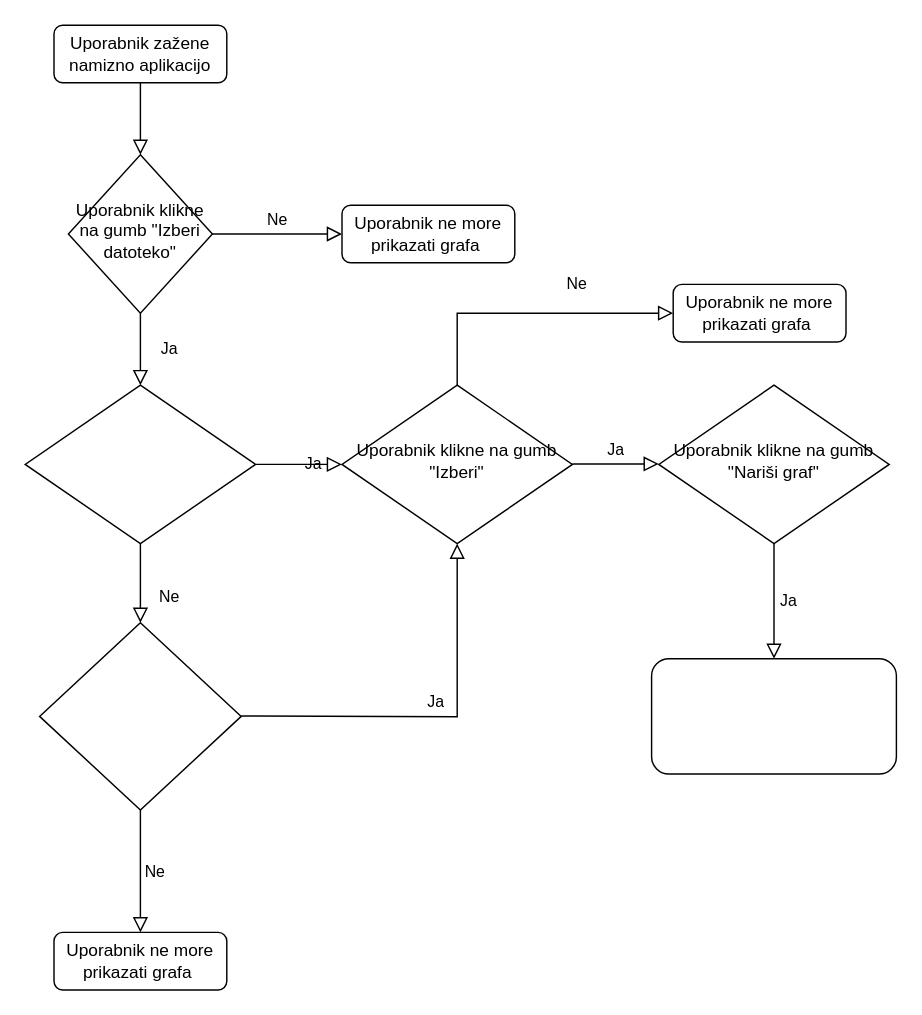
Some shapes in this 922 by 1015 pixel diagram are drawn without their labels. The centre of each missing label's shape, as x and y in pixels:
"Ima uporabnik tekstovno datoteko katera vsebuje temperature?" belongs at pixel 139 715.
"Uporabnik locira pot do datoteke na računalniku" belongs at pixel 140 464.
"Uporabniku se izriše graf kateri prikazuje temperatue z uporabo 2D graph APIja" belongs at pixel 773 715.
